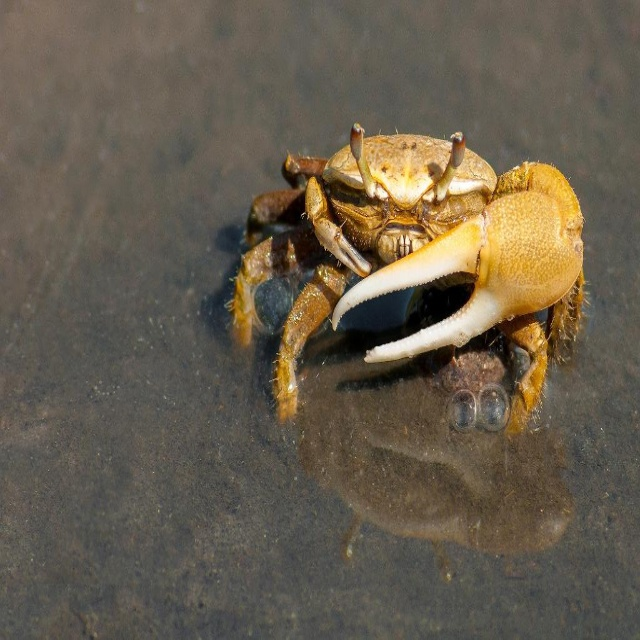Crab: (222, 118, 587, 439)
